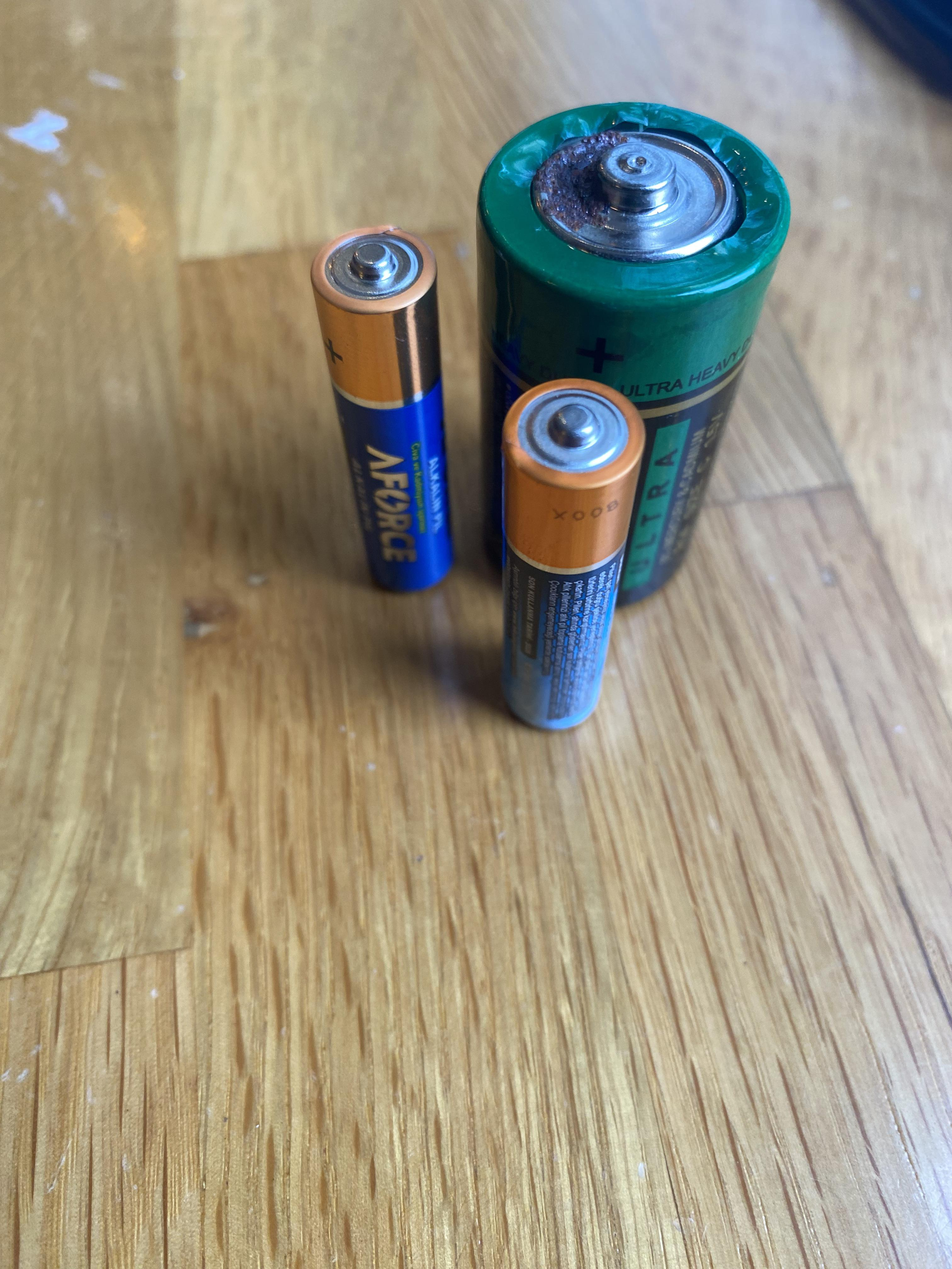AA: (309, 223, 454, 593)
